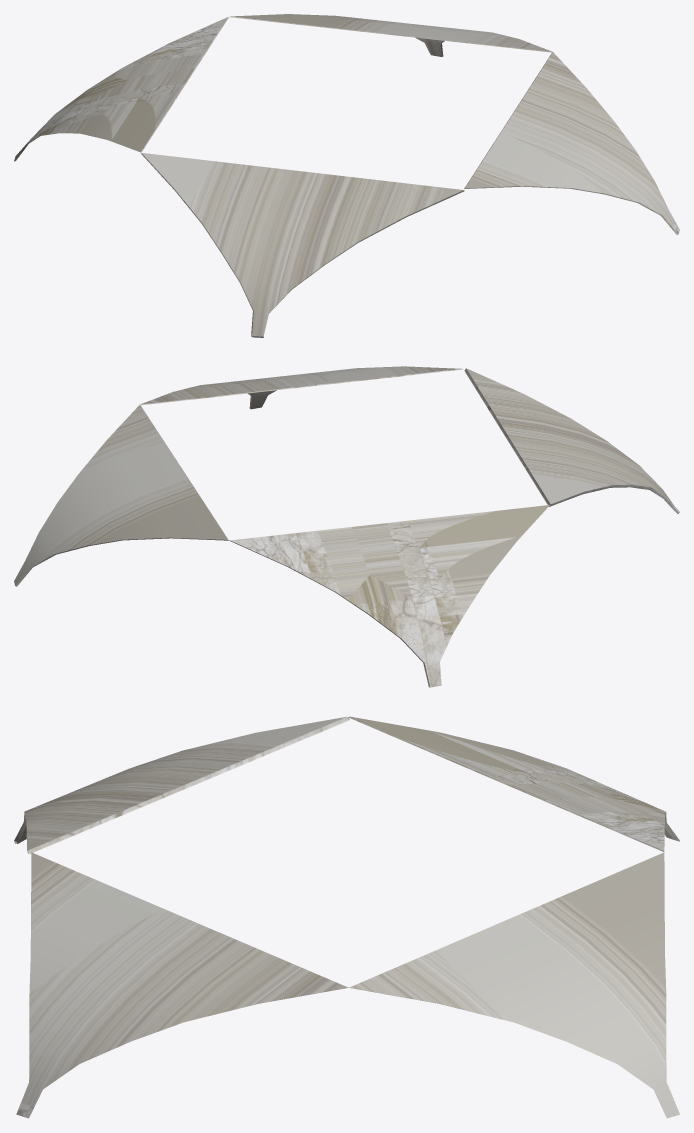
The model's file is Pandantif2.fbx.
3 views of the same model, one above another, from view 1: azimuth 30°, elevation 25°; view 2: azimuth 150°, elevation 25°; view 3: azimuth 270°, elevation 25° (orthographic). The views are drawn at different scales.
Parts seen in each view (by area): view 1: Circle.137; view 2: Circle.137; view 3: Circle.137.
Boxes of the visible parts, x1=… form: Circle.137: x1=14, y1=14, x2=679, y2=337; Circle.137: x1=14, y1=366, x2=679, y2=687; Circle.137: x1=14, y1=716, x2=679, y2=1118.
Size of the model in its own units: 4984 by 1051 by 4959.
